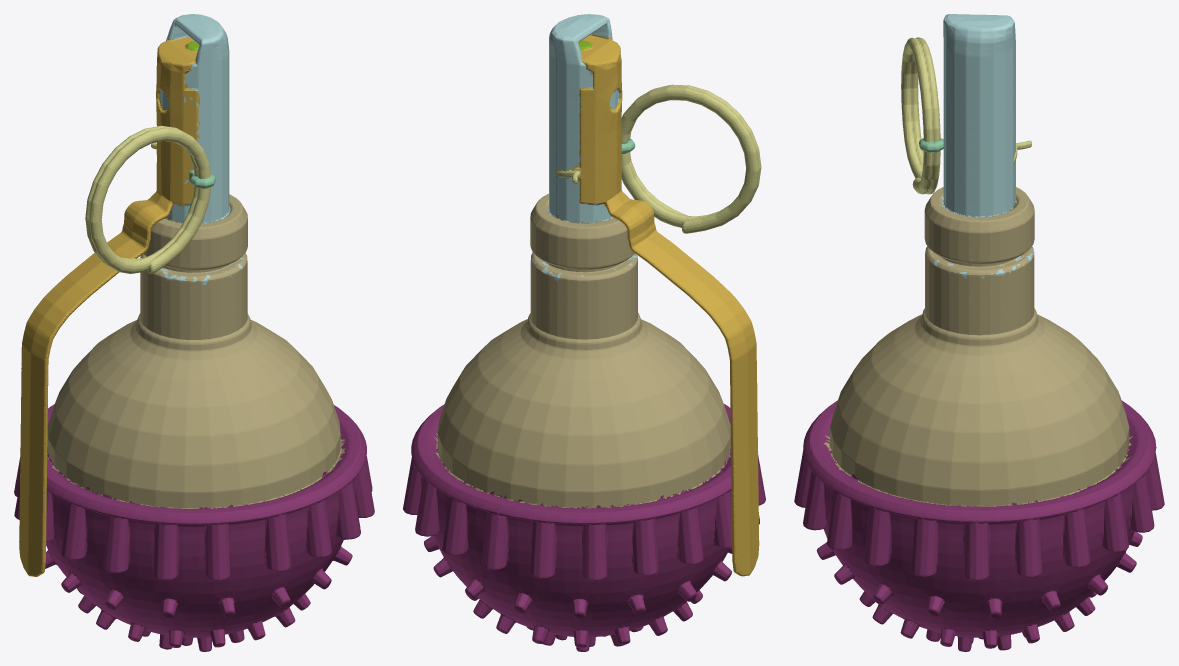
3 views of the same model, side by side, from view 1: azimuth 30°, elevation 25°; view 2: azimuth 150°, elevation 25°; view 3: azimuth 270°, elevation 25° (orthographic).
Visible parts, largest first — view 1: world; view 2: world; view 3: world.
Part boxes in pixels (x1=…): world: x1=14, y1=14, x2=374, y2=651; world: x1=403, y1=14, x2=765, y2=651; world: x1=794, y1=14, x2=1164, y2=651.
Size of the model in its own units: 1.06 by 1.91 by 1.03.
